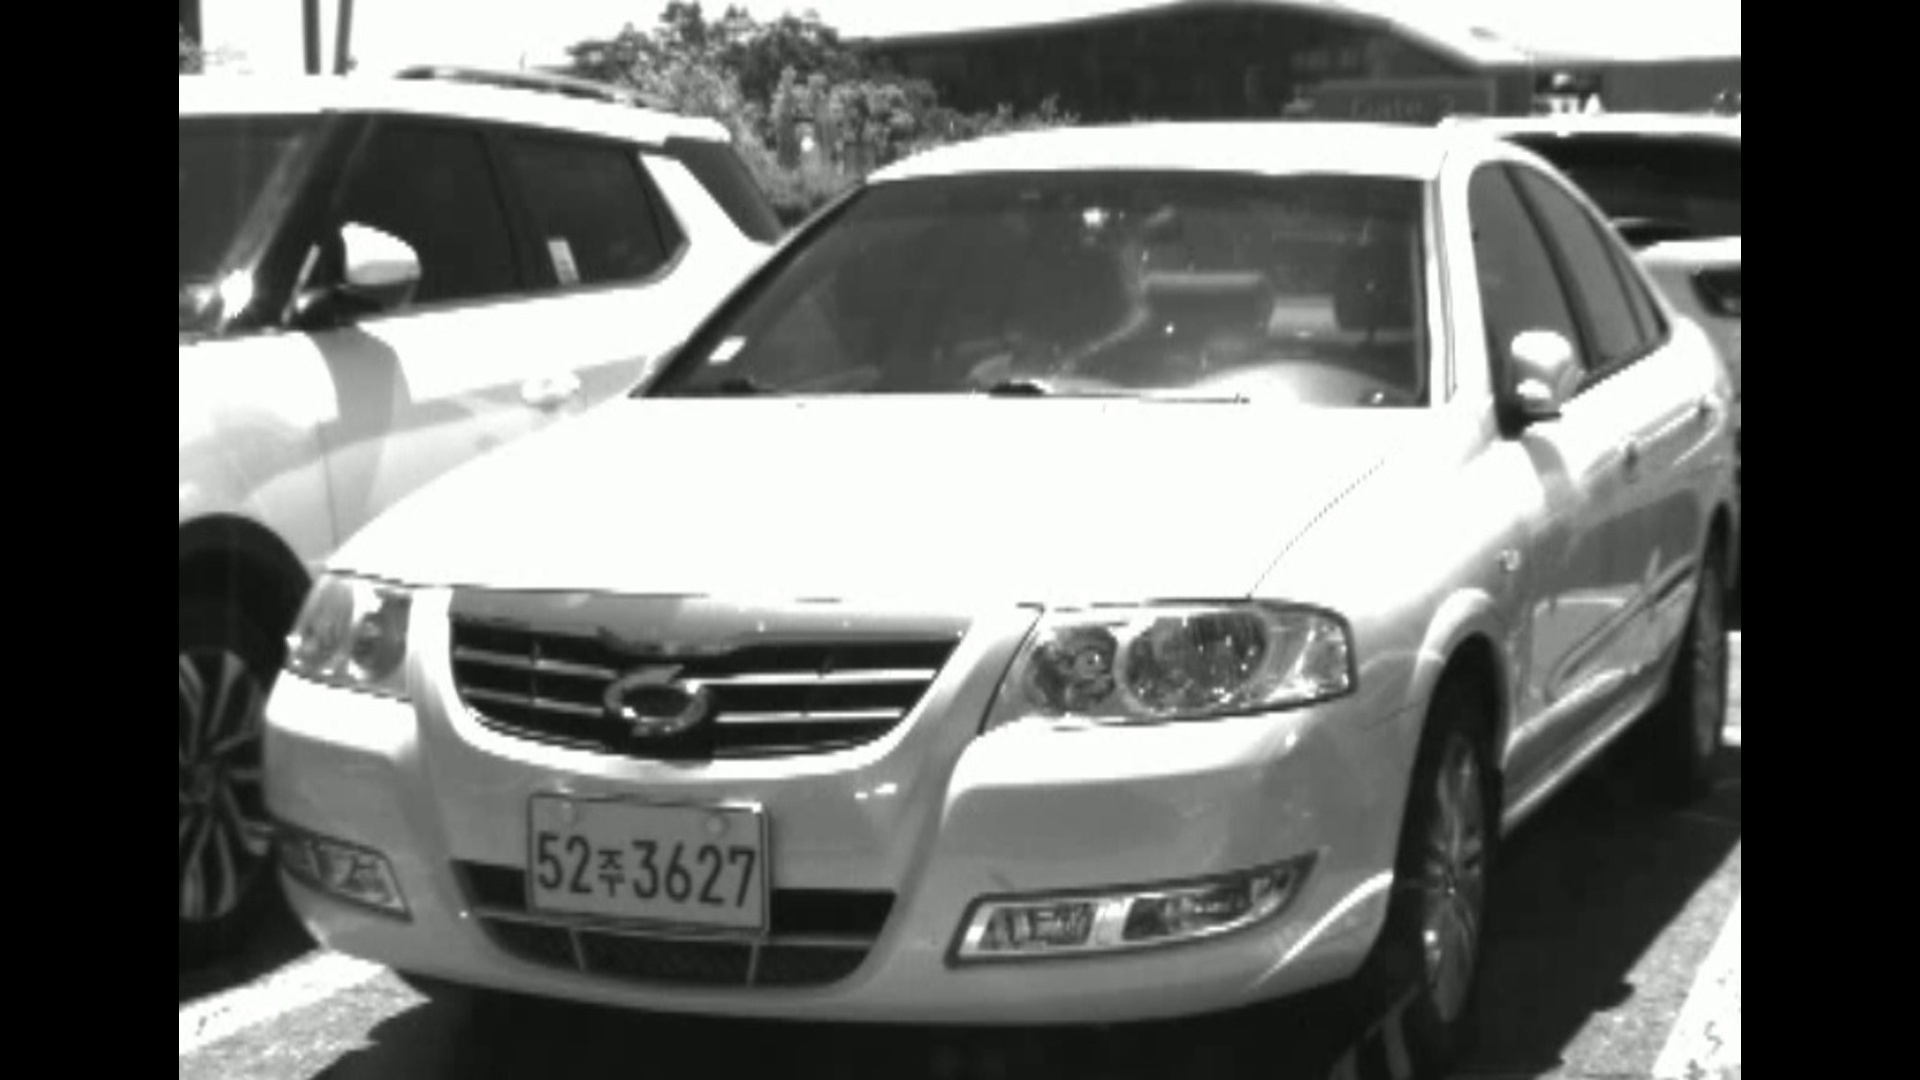license_plate: (531, 792, 764, 933)
